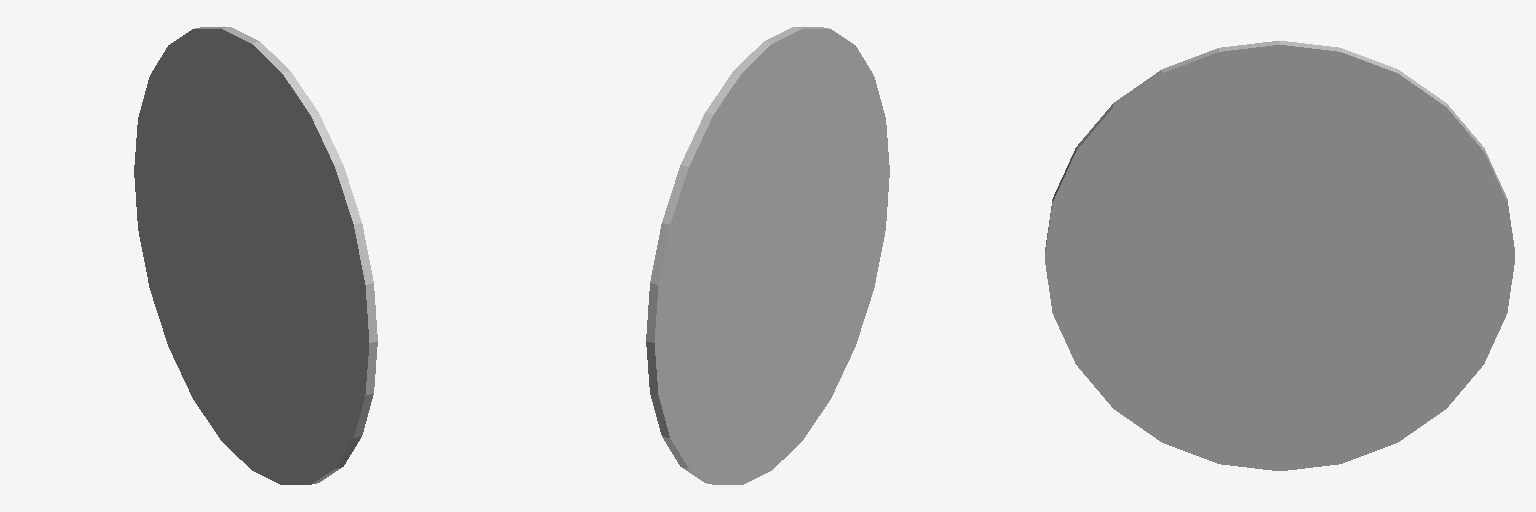
Rendered from target.obj.
3 views of the same model, side by side, from view 1: azimuth 30°, elevation 25°; view 2: azimuth 150°, elevation 25°; view 3: azimuth 270°, elevation 25° (orthographic).
Parts seen in each view (by area): view 1: SketchUp.013_ID117; view 2: SketchUp.013_ID117; view 3: SketchUp.001_ID17, SketchUp.002_ID27, SketchUp.015_ID142, SketchUp.003_ID37, SketchUp.004_ID45, SketchUp.005_ID53, SketchUp.006_ID61, SketchUp.007_ID69, SketchUp.008_ID77, SketchUp_ID3, SketchUp.009_ID85, SketchUp.010_ID93 (+2 smaller).
Boxes of the visible parts, x1,y1,x2,y2 form: SketchUp.013_ID117: [134, 27, 377, 484]; SketchUp.013_ID117: [646, 27, 889, 484]; SketchUp.001_ID17: [1064, 63, 1495, 453]; SketchUp.002_ID27: [1084, 80, 1475, 435]; SketchUp.015_ID142: [1045, 45, 1514, 470]; SketchUp.003_ID37: [1103, 98, 1456, 417]; SketchUp.004_ID45: [1123, 116, 1436, 399]; SketchUp.005_ID53: [1143, 134, 1416, 382]; SketchUp.006_ID61: [1162, 151, 1397, 364]; SketchUp.007_ID69: [1182, 169, 1377, 346]; SketchUp.008_ID77: [1202, 187, 1357, 328]; SketchUp_ID3: [1280, 258, 1514, 470]; SketchUp.009_ID85: [1221, 205, 1338, 310]; SketchUp.010_ID93: [1241, 223, 1318, 293].
Size of the model in its own units: 0.0635 by 3.05 by 3.05.